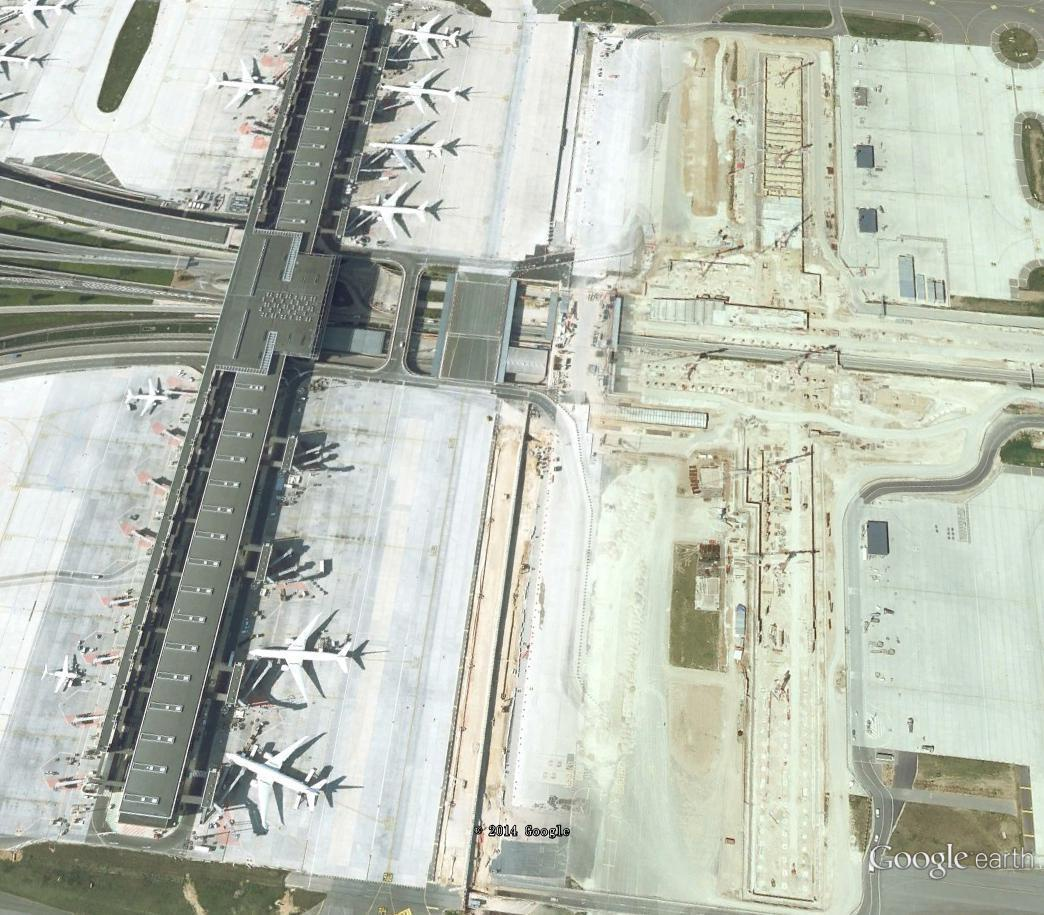aircraft: (219, 730, 342, 837), (240, 607, 360, 712), (346, 178, 436, 252), (357, 117, 460, 180), (370, 64, 469, 121), (198, 55, 286, 114), (390, 10, 466, 64), (121, 376, 177, 421), (37, 652, 90, 699), (4, 3, 70, 36), (3, 34, 42, 81)
